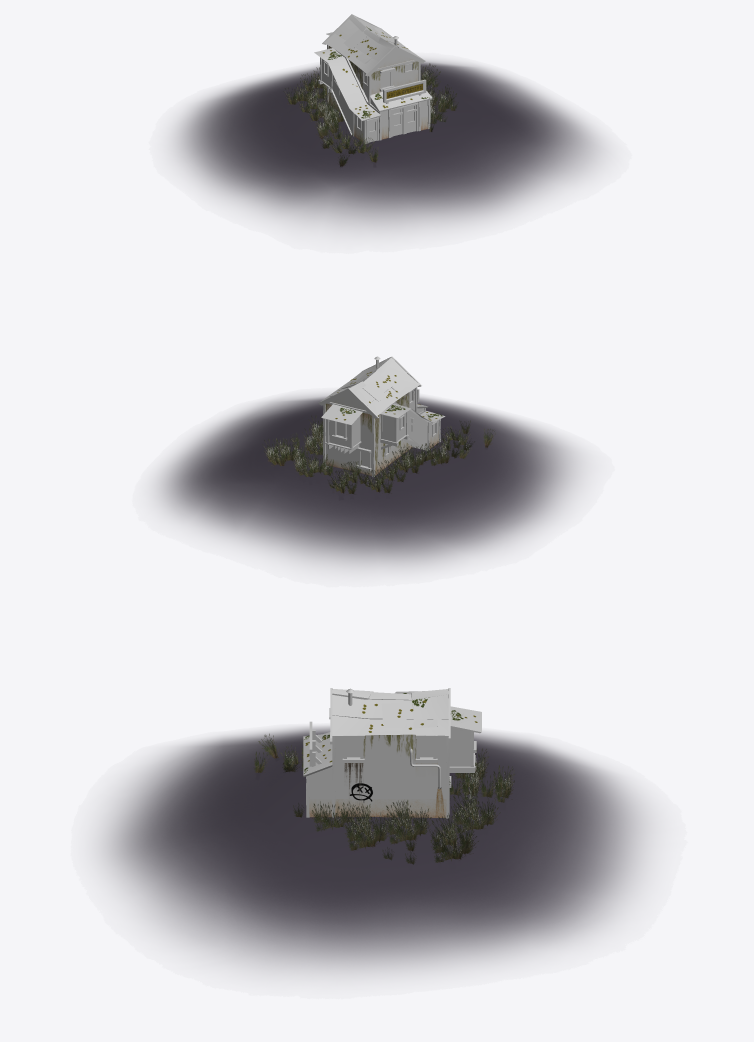
The picture shows the model from 3 angles, top to bottom: view 1: azimuth 30°, elevation 25°; view 2: azimuth 150°, elevation 25°; view 3: azimuth 270°, elevation 25°; orthographic projection. The views are drawn at different scales.
Parts seen in each view (by area): view 1: house; view 2: house; view 3: house.
Part boxes in pixels (bbox=[...]): house: bbox=[173, 14, 602, 230]; house: bbox=[156, 356, 580, 567]; house: bbox=[101, 688, 648, 973].
Bounding box in the file's own units: 40.25 × 11.69 × 40.25.
